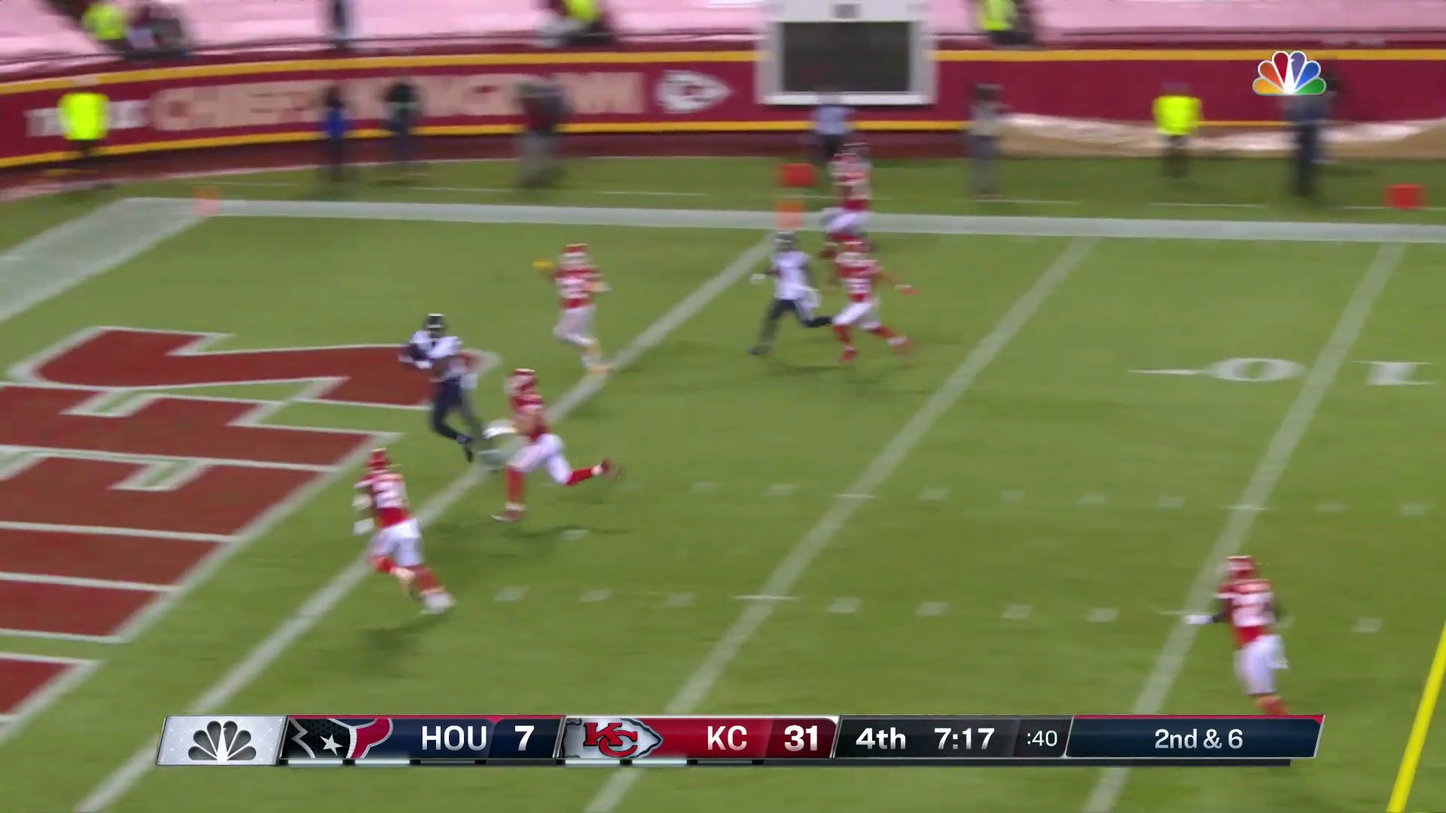Player: (355, 447, 443, 605), (1216, 555, 1286, 711), (399, 313, 481, 440), (749, 225, 822, 355), (500, 369, 562, 513), (831, 232, 900, 357), (824, 148, 876, 283), (552, 243, 607, 364)
